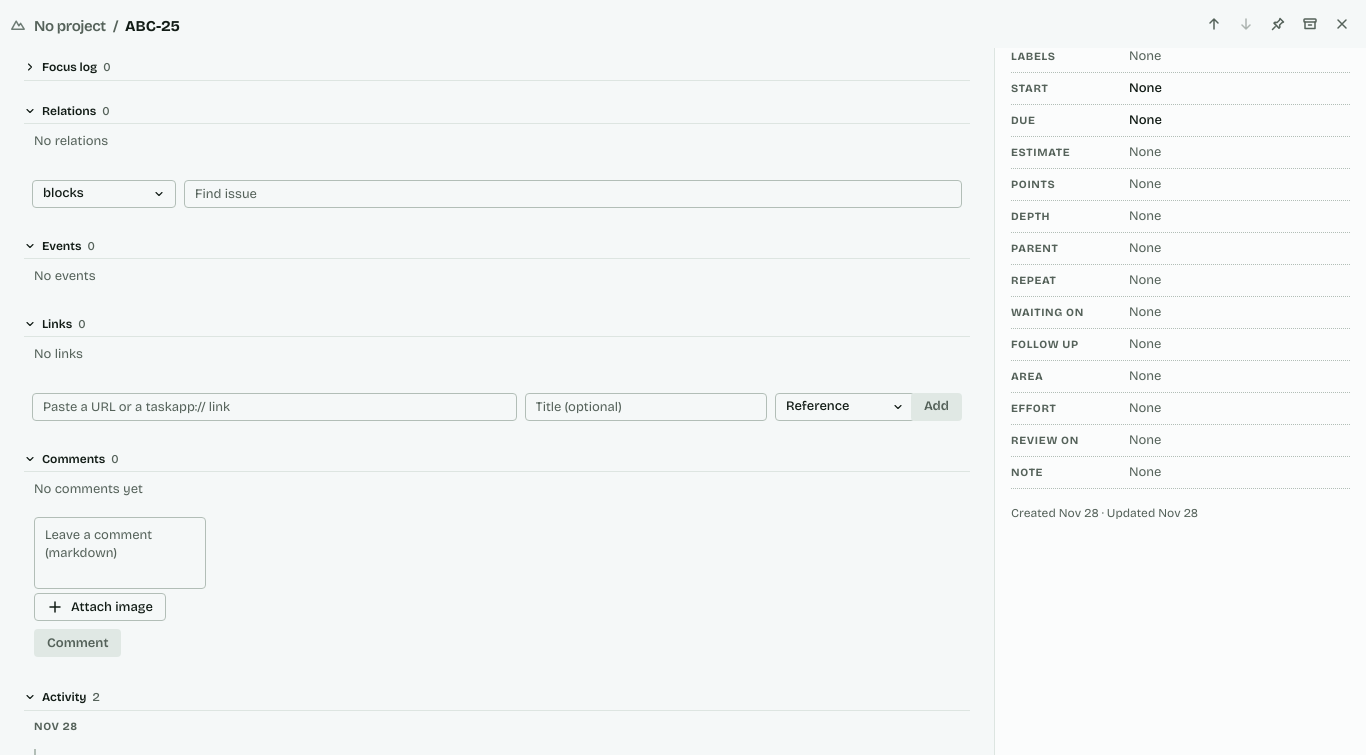
IssueDetail › custom_property_edit_shows_value
(page scrolled)
Click the button "None" next to "Effort": point(1232, 408) [1123, 396, 1342, 420]
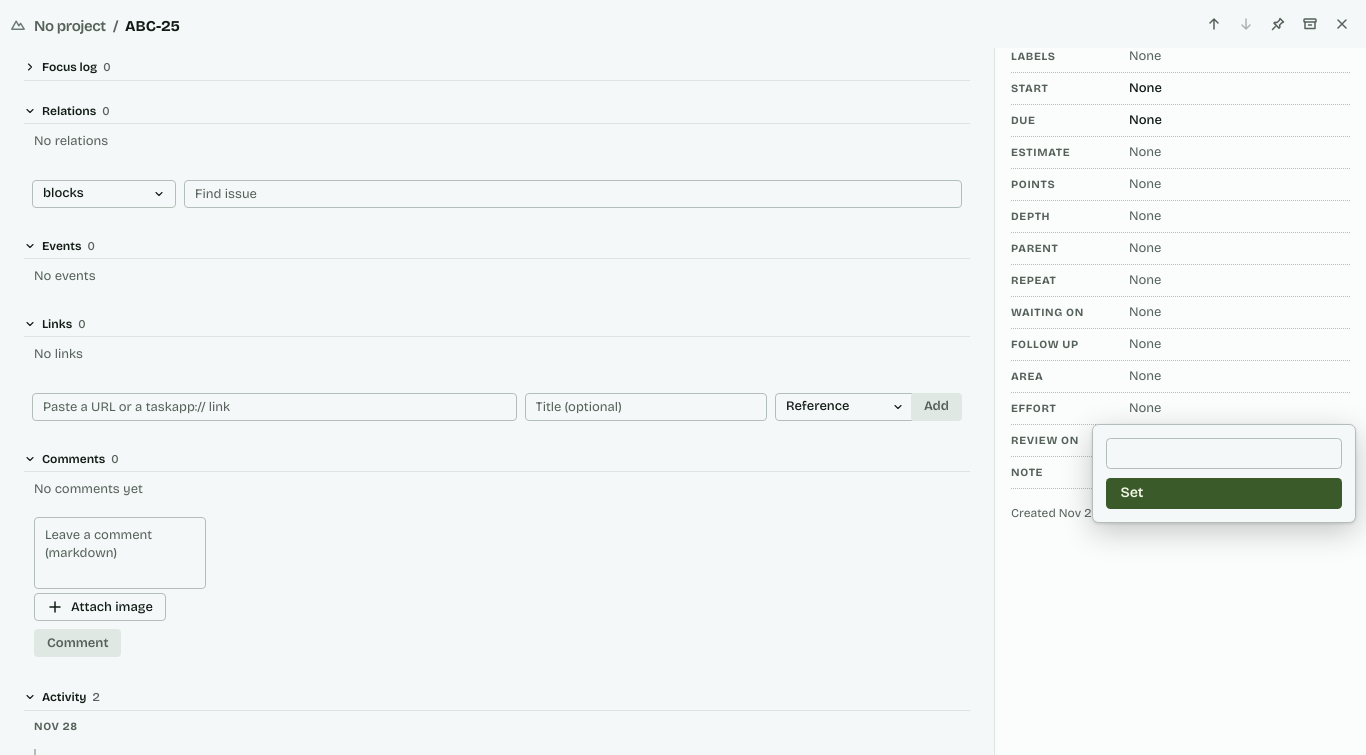
In the number field named "Effort value": point(1224, 454) [1106, 438, 1342, 469], type "7"
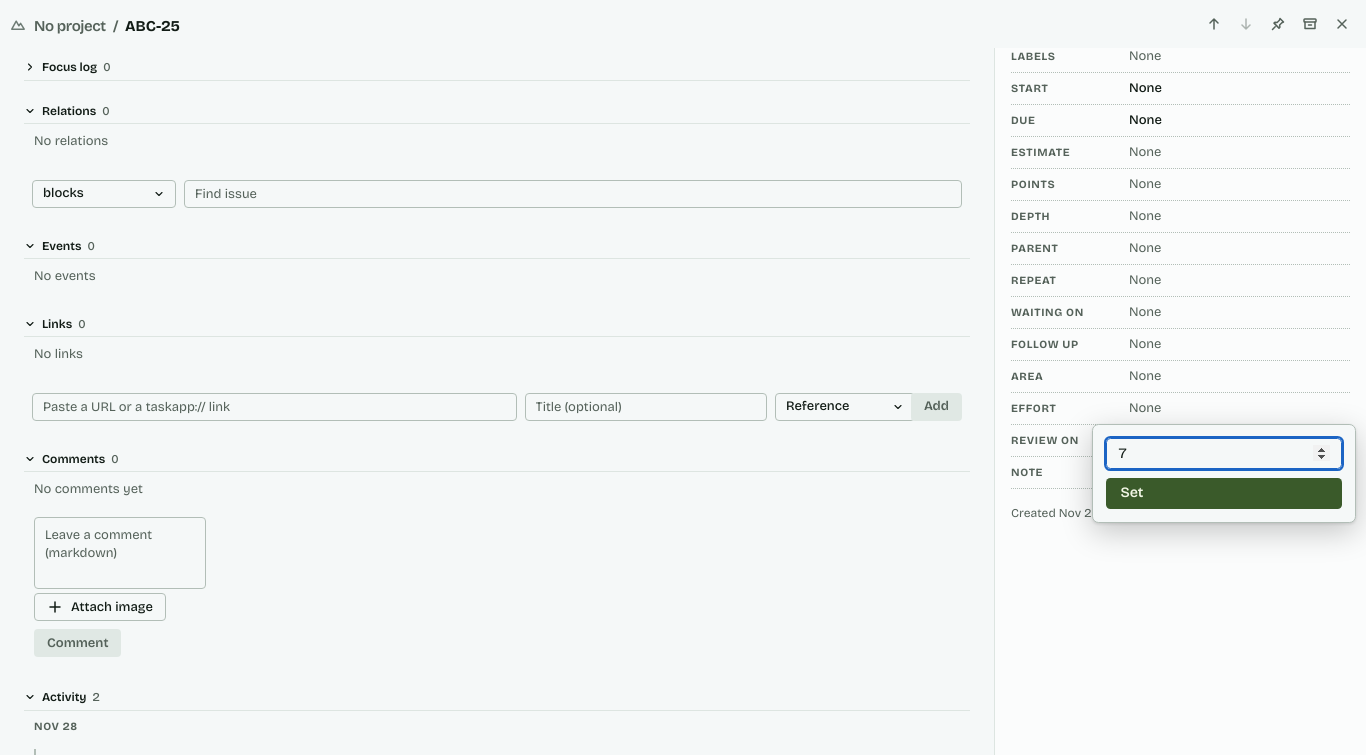
Submit the form with class "stack", box [1106, 438, 1342, 509]
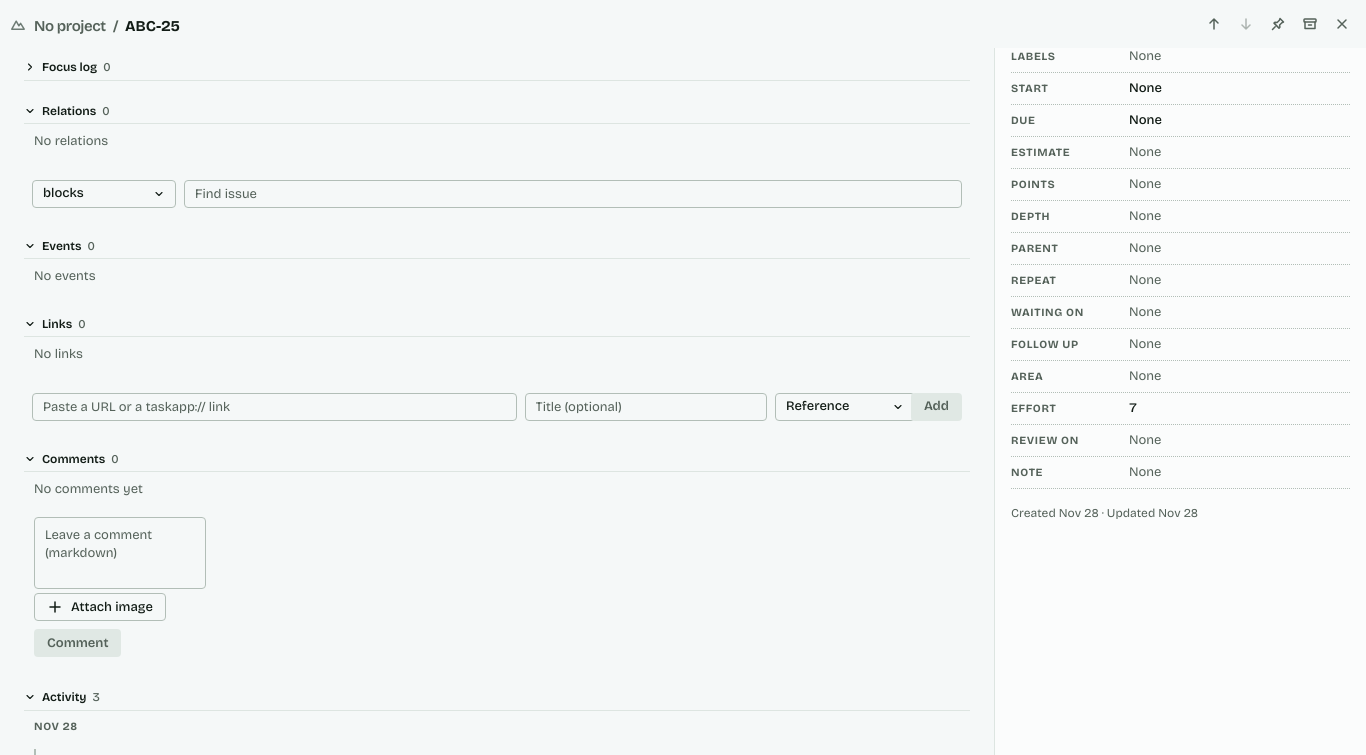
Now the button "7" is shown, box [1123, 396, 1342, 420]
